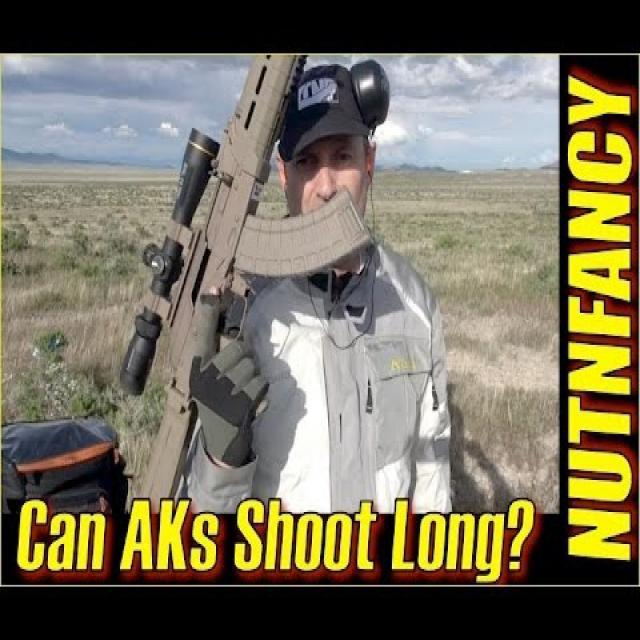gun-knife-thesis - v11 Yolov5 augmented: (120, 53, 372, 503)
